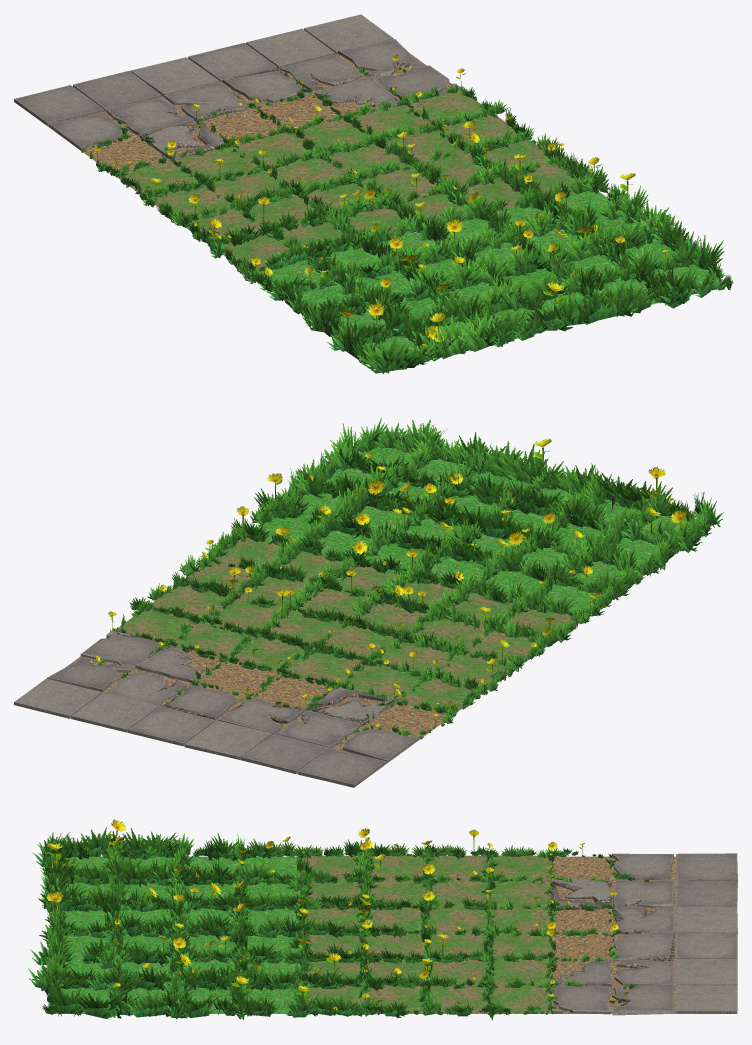
The model's file is grid_grass_flowers.glb.
3 renders of one model, top to bottom at view 1: azimuth 30°, elevation 25°; view 2: azimuth 150°, elevation 25°; view 3: azimuth 270°, elevation 25°, orthographic. The views are drawn at different scales.
Parts seen in each view (by area): view 1: GrassGrid, grass_transition, CrackedPavement, grass_dirt, grass_grass, PlantGrid; view 2: GrassGrid, grass_transition, CrackedPavement, grass_dirt, grass_grass, PlantGrid; view 3: GrassGrid, grass_transition, CrackedPavement, grass_dirt, grass_grass, PlantGrid.
Part boxes in pixels (x1,y1,x2,y2): GrassGrid: (81,66,733,373); grass_transition: (118,90,577,269); CrackedPavement: (14,14,460,159); grass_dirt: (186,191,725,353); grass_grass: (34,53,451,207); PlantGrid: (94,54,668,348); GrassGrid: (98,417,723,739); grass_transition: (117,537,575,713); CrackedPavement: (14,630,419,787); grass_dirt: (256,445,712,664); grass_grass: (67,637,507,787); PlantGrid: (93,438,687,729); GrassGrid: (28,827,663,1019); grass_transition: (303,855,551,1012); CrackedPavement: (550,853,737,1015); grass_dirt: (55,856,423,1013); grass_grass: (435,856,693,1013); PlantGrid: (46,819,632,1013).
Bounding box in the file's own units: 141 × 18.22 × 233.
6 materials, 6 textured.
